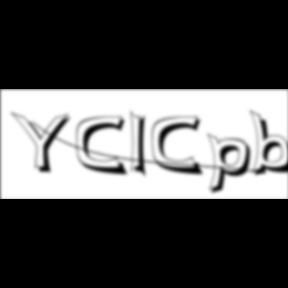C: (76, 115, 132, 178), (152, 115, 206, 178)
Y: (11, 110, 78, 176)
l: (130, 108, 154, 182)
p: (208, 132, 258, 198)
